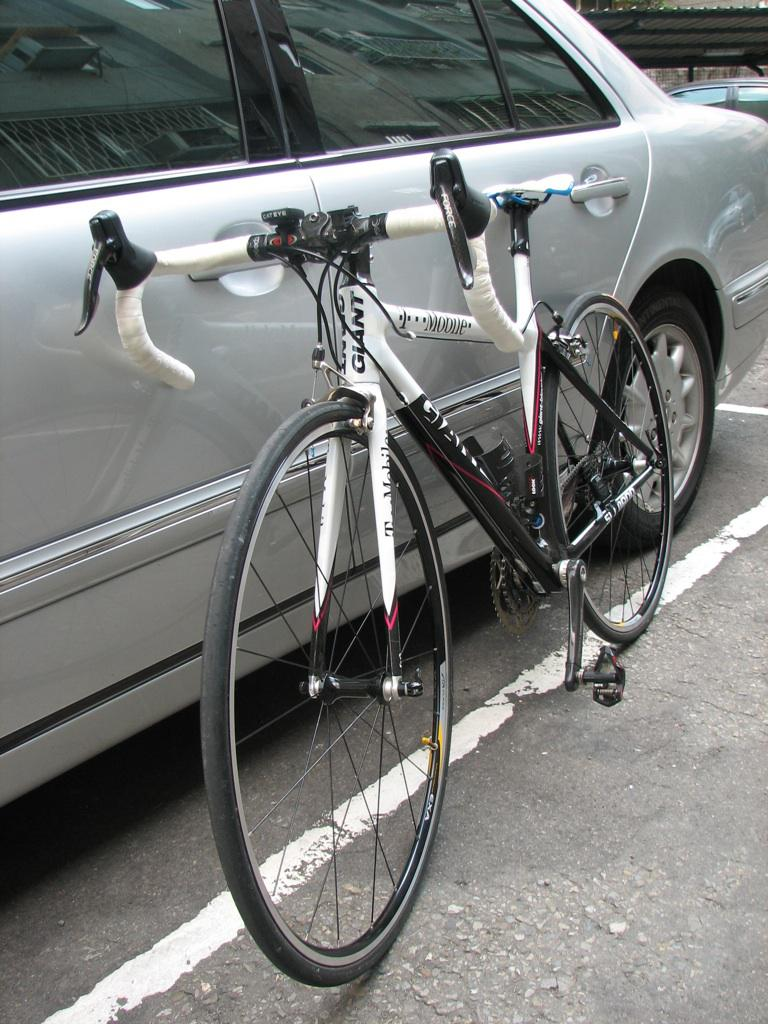Bike_toward: (86, 255, 635, 1024)
